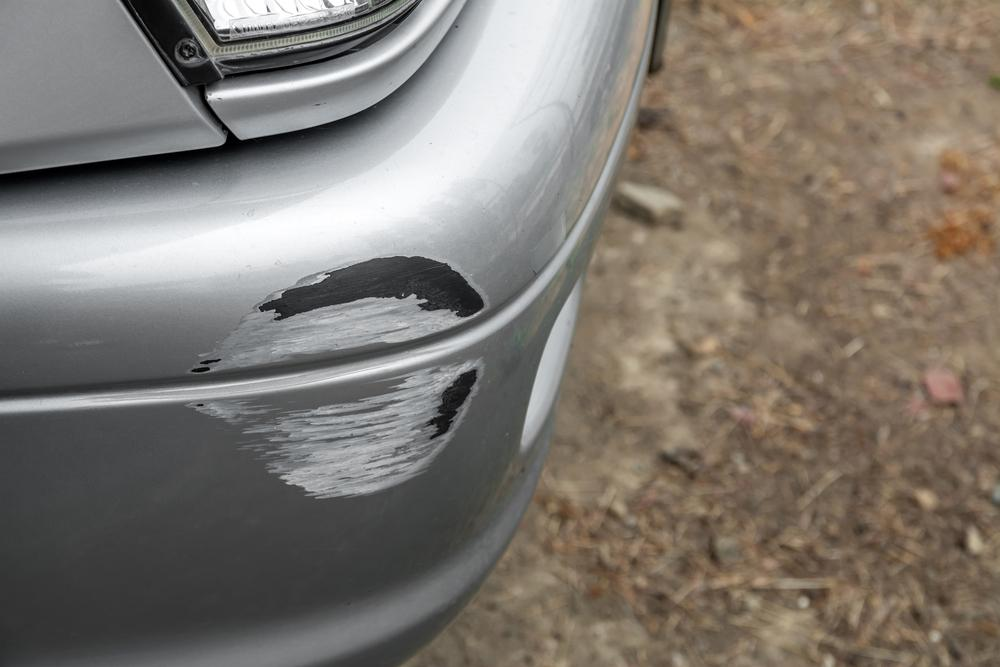scratch: (185, 250, 496, 501)
